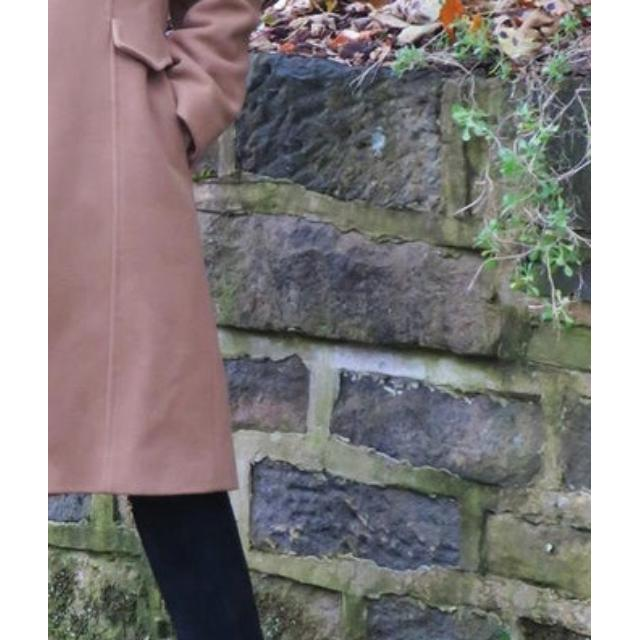wool: (49, 0, 267, 518)
